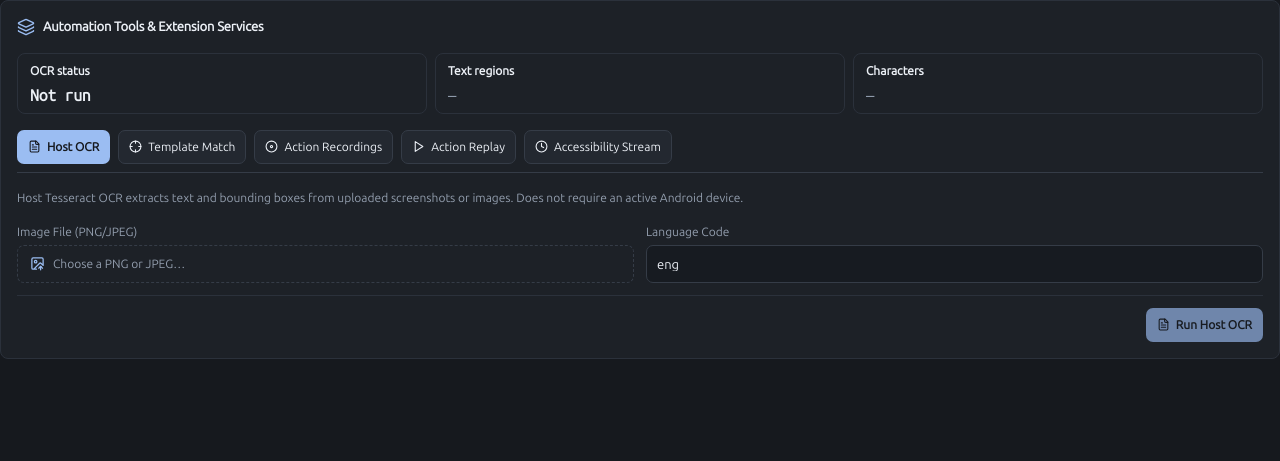
Test: AutomationTools Component and automationClient › Action Recordings › disables recording start when device is not selected
Click the button with test id "tab-recordings".
click(324, 147)  # box [254, 130, 393, 164]
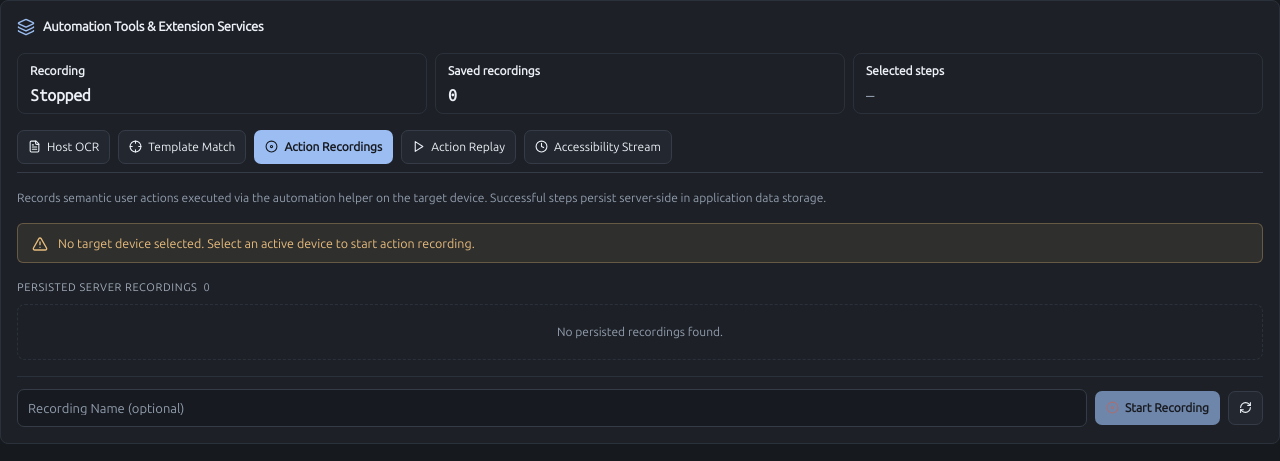
Expected: the element with test id "no-device-warning" is shown, [17, 223, 1263, 264]
Expected: the button with test id "start-recording-btn" is disabled, [1095, 391, 1220, 425]
